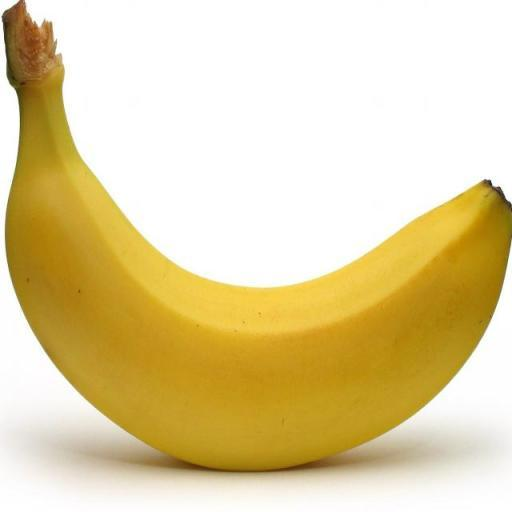fruit: (3, 2, 511, 469)
